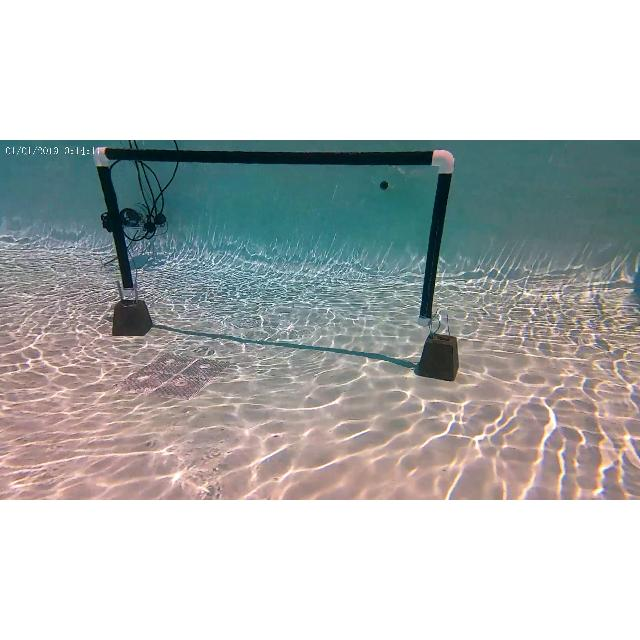prequal gate: (94, 144, 454, 326)
prequal gate leg l: (90, 146, 142, 300)
prequal gate leg r: (417, 145, 453, 325)
